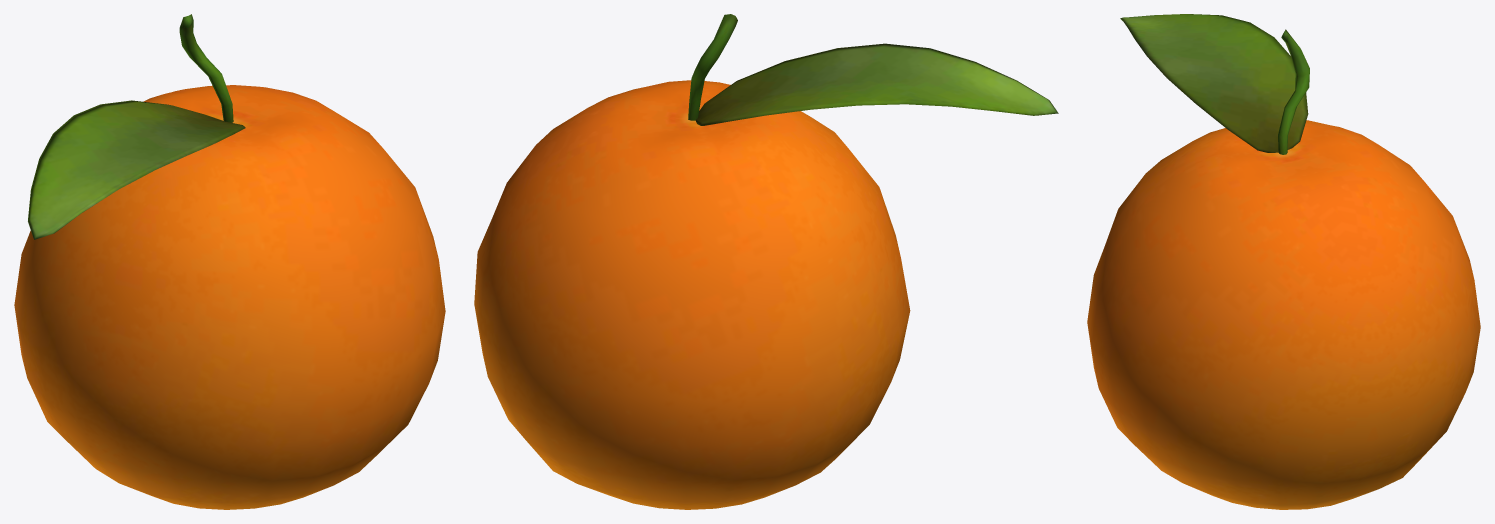
The model's file is OrangeShort.fbx.
3 renders of one model, left to right at view 1: azimuth 30°, elevation 25°; view 2: azimuth 150°, elevation 25°; view 3: azimuth 270°, elevation 25°, orthographic. The views are drawn at different scales.
Visible parts, largest first — view 1: OrangeShort; view 2: OrangeShort; view 3: OrangeShort.
Part boxes in pixels (bbox=[...]): OrangeShort: bbox=[14, 14, 445, 509]; OrangeShort: bbox=[474, 14, 1058, 509]; OrangeShort: bbox=[1087, 14, 1480, 509].
Bounding box in the file's own units: 133 × 130 × 106.
